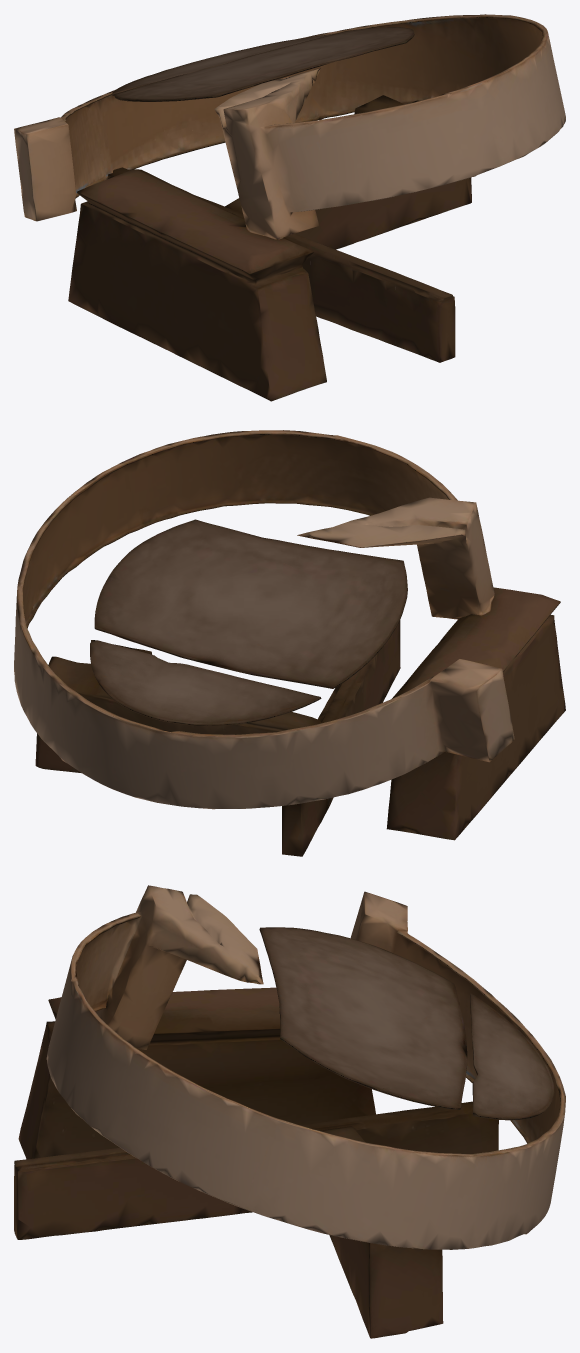
3 renders of one model, top to bottom at view 1: azimuth 30°, elevation 25°; view 2: azimuth 150°, elevation 25°; view 3: azimuth 270°, elevation 25°, orthographic. The views are drawn at different scales.
Visible parts, largest first — view 1: tripo_node_544117ef-c35a-4ee3-ac32-5592afa791fb; view 2: tripo_node_544117ef-c35a-4ee3-ac32-5592afa791fb; view 3: tripo_node_544117ef-c35a-4ee3-ac32-5592afa791fb.
Boxes of the visible parts, left/top/right/bottom form: tripo_node_544117ef-c35a-4ee3-ac32-5592afa791fb: left=14, top=14, right=565, bottom=401; tripo_node_544117ef-c35a-4ee3-ac32-5592afa791fb: left=14, top=430, right=565, bottom=856; tripo_node_544117ef-c35a-4ee3-ac32-5592afa791fb: left=14, top=885, right=565, bottom=1338.
Bounding box in the file's own units: 1 × 0.482 × 0.8766.
Materials: 1 (1 with a texture image).
